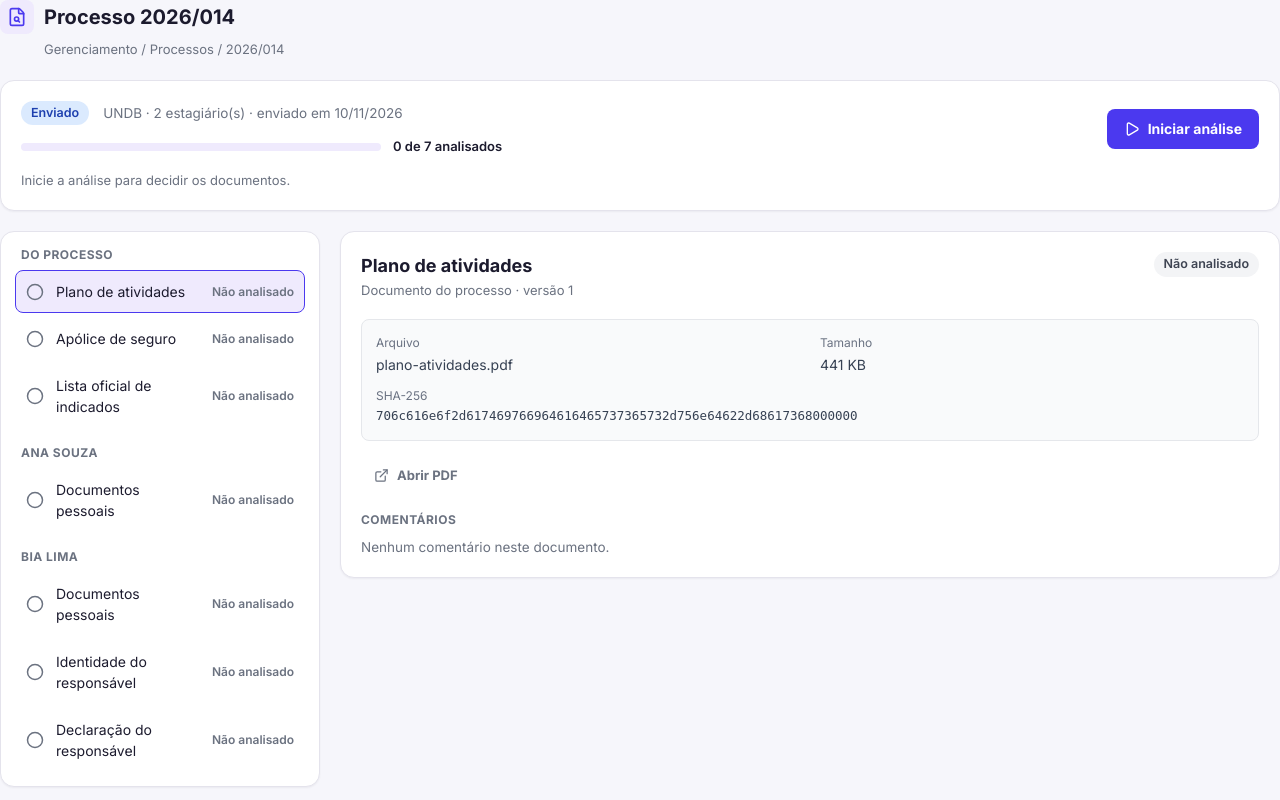
it: AnaliseProcesso › abre um processo enviado e só libera as decisões depois de iniciar a análise
The width and height of the screenshot is (1280, 800).
Check: the heading "Processo 2026/014" is shown, box [44, 2, 235, 32]
Check: the text "Enviado" is shown, box [21, 100, 89, 125]
Click the button "Apólice de seguro Não analisado" at x=160, y=339, box [15, 317, 305, 360]
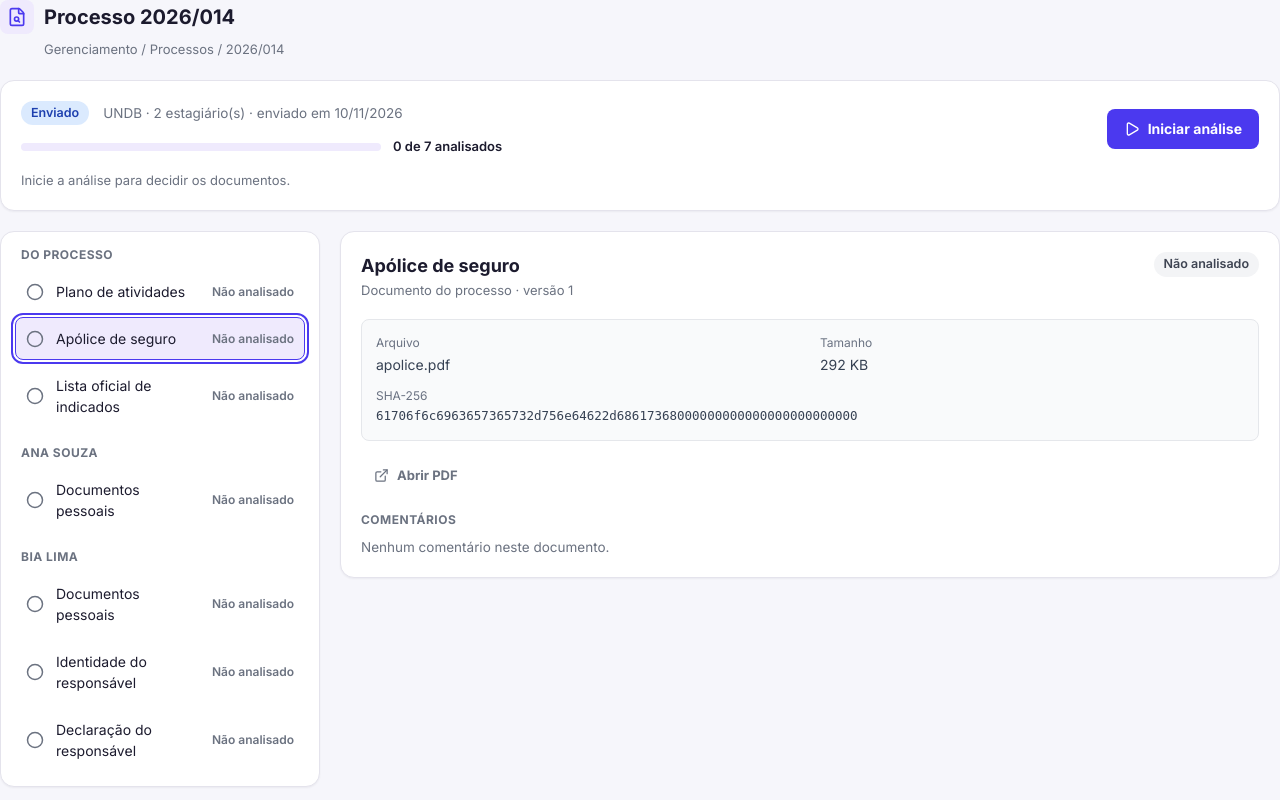
Check: the text "Inicie a análise para decidir os documentos." is shown once, box [21, 172, 290, 188]
Click the button "Iniciar análise" at x=1183, y=129, box [1107, 109, 1259, 149]
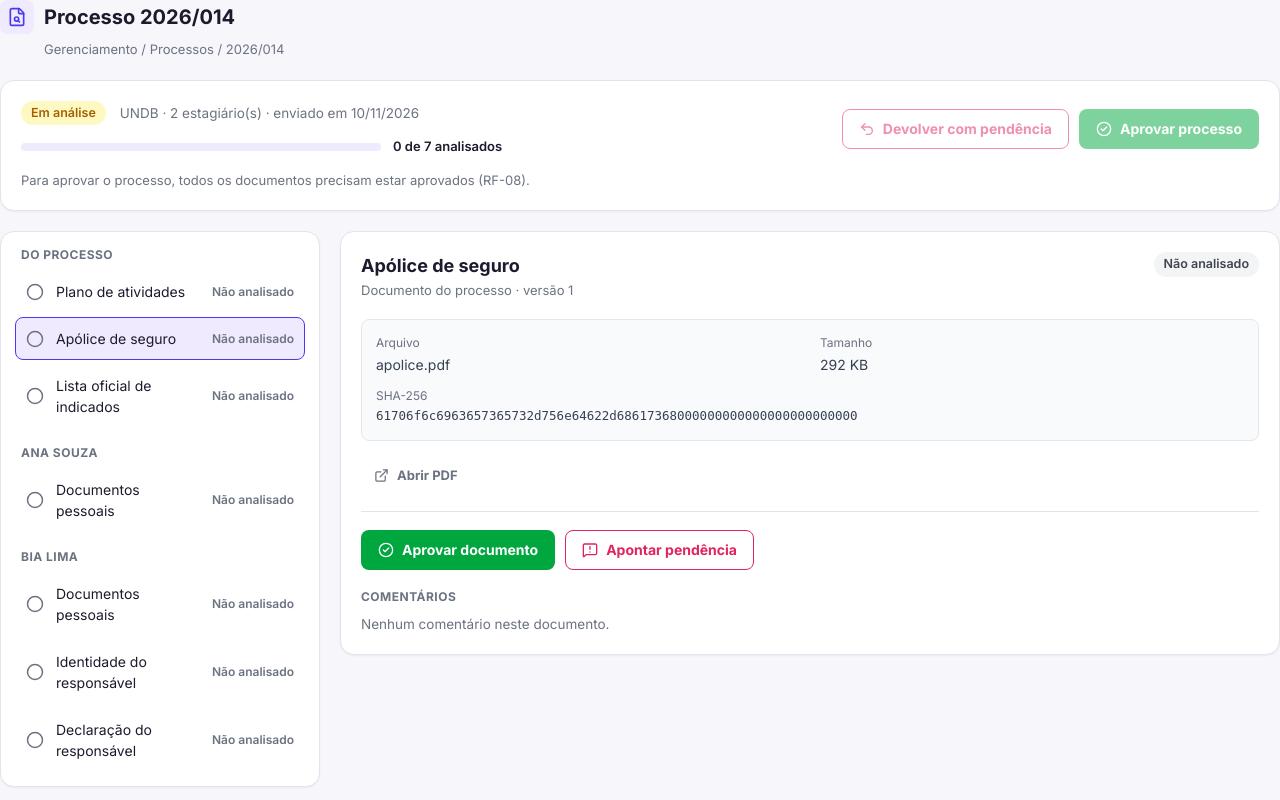
Check: the button "Aprovar documento" is shown, box [361, 530, 555, 570]
Check: the text "Em análise" is shown, box [21, 100, 106, 125]
Check: the button "Iniciar análise" is gone
